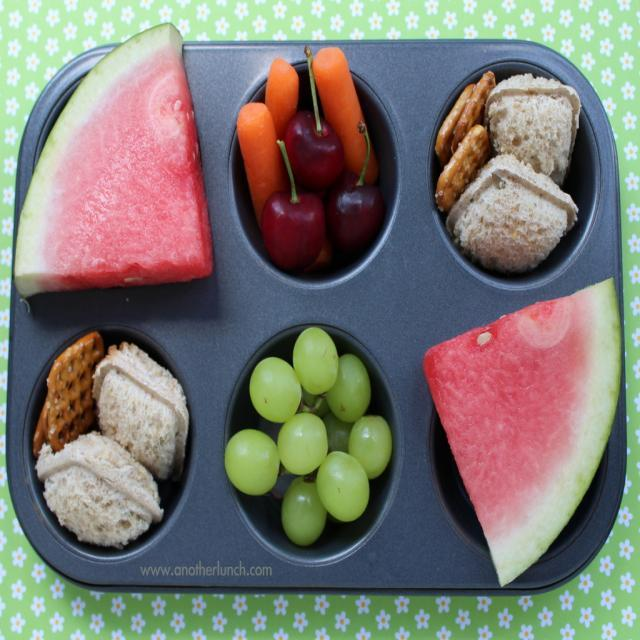Watermelon: (423, 278, 622, 589), (12, 19, 211, 295)
